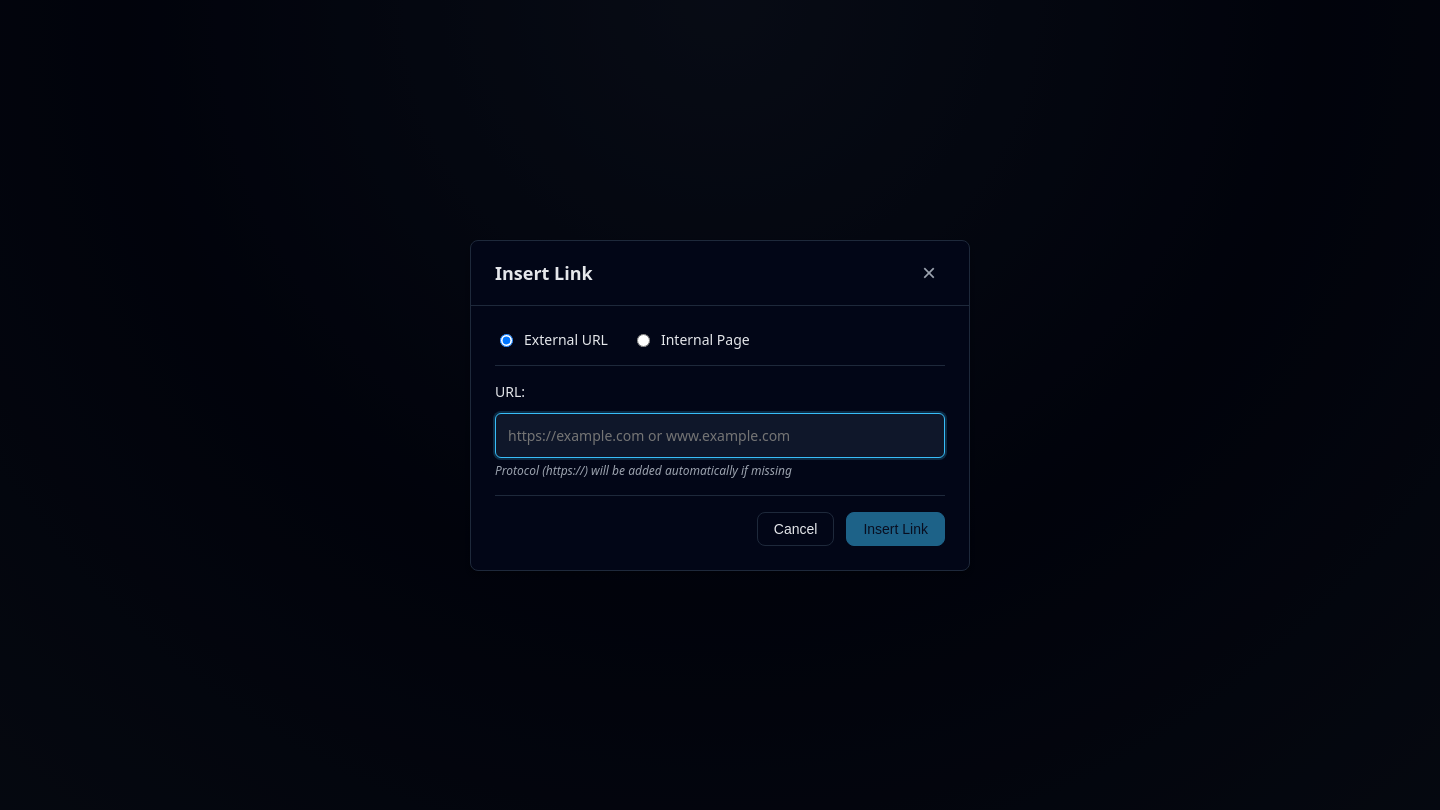
LinkDialog › displays "No pages found" when search returns empty
Click the radio button labelled "Internal Page". click: click(644, 340)
box: [637,334,650,347]
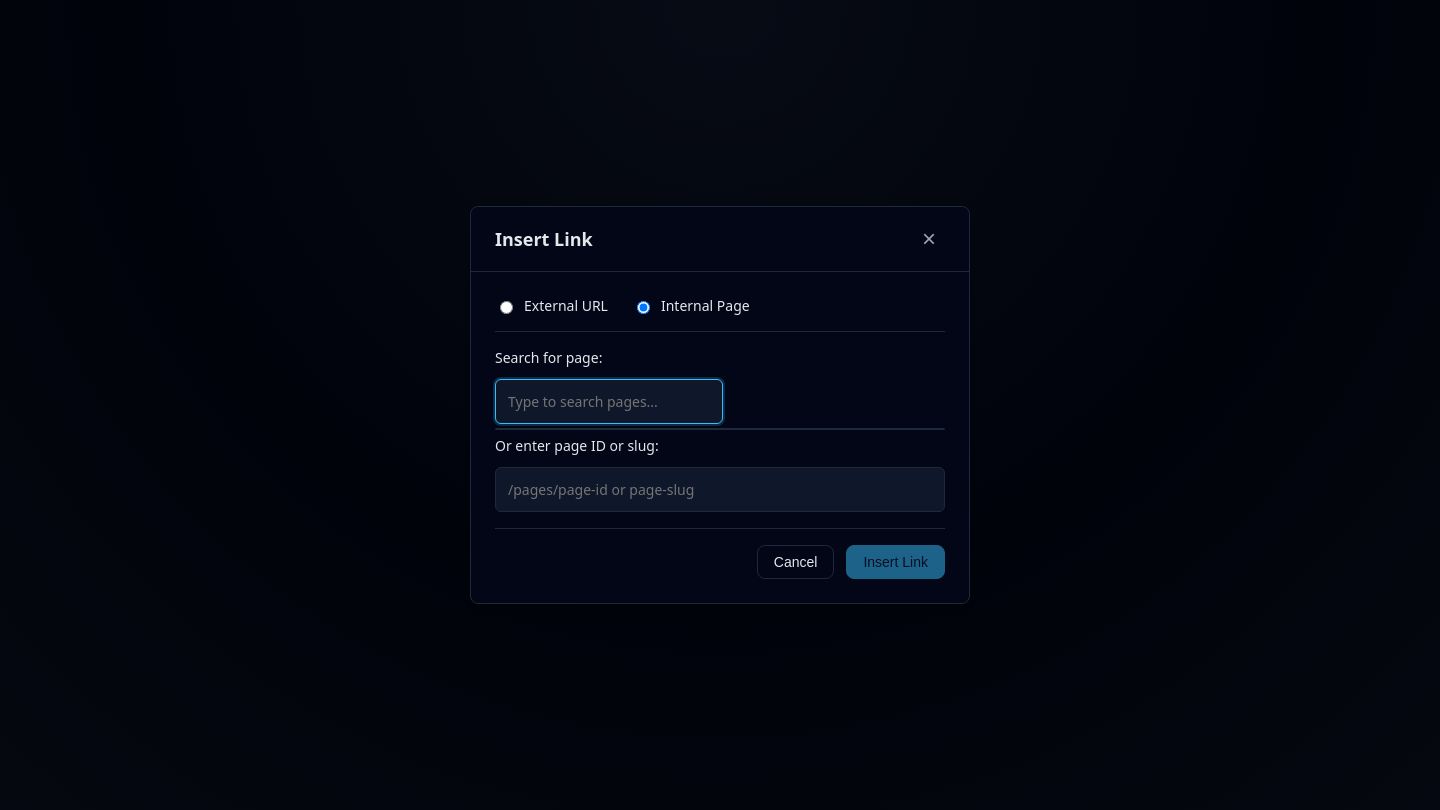
Type "nonexistent" into the field with placeholder "Type to search pages...". click: (609, 402)
box: [495,379,723,424]
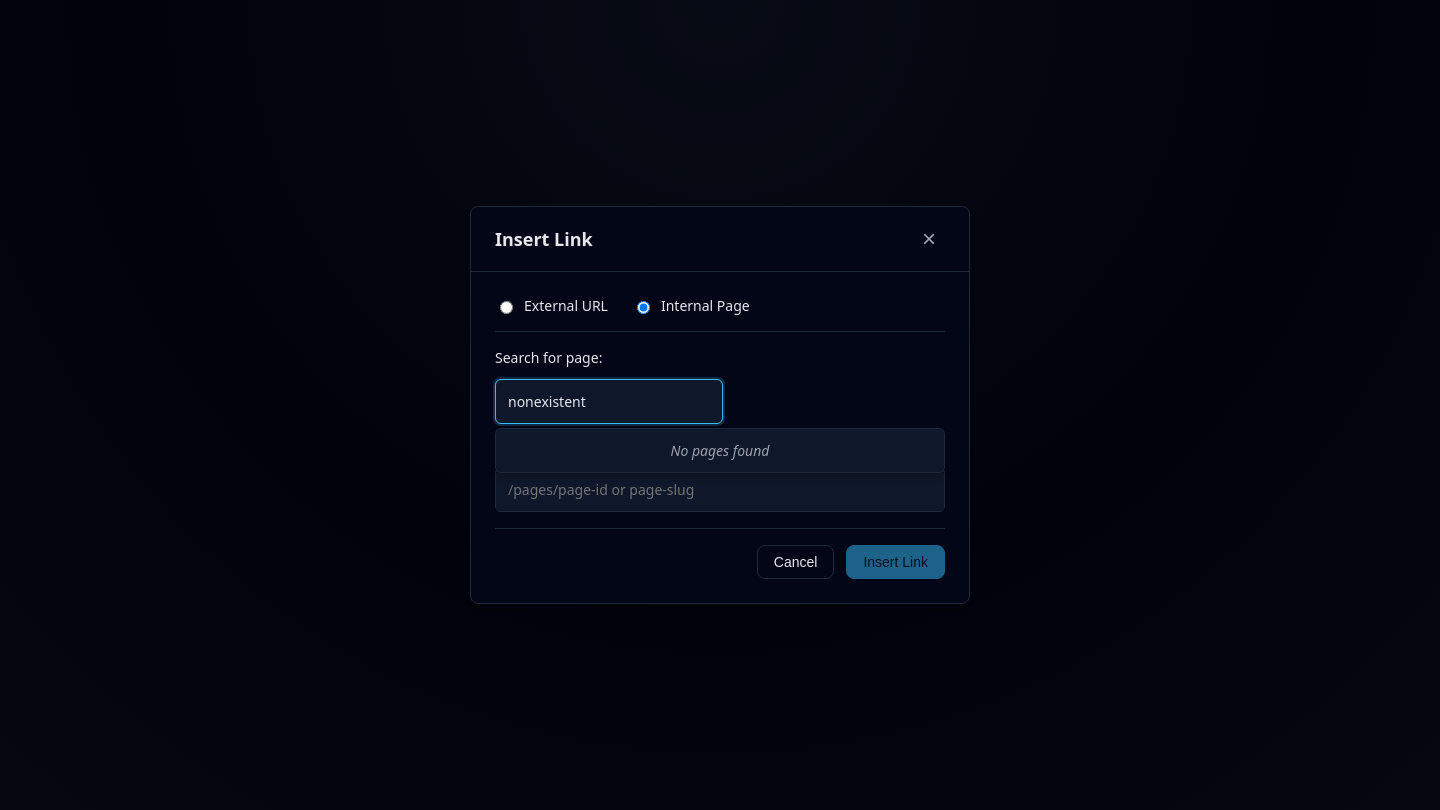
Now the text "No pages found" is shown, box [670,441,769,460]
